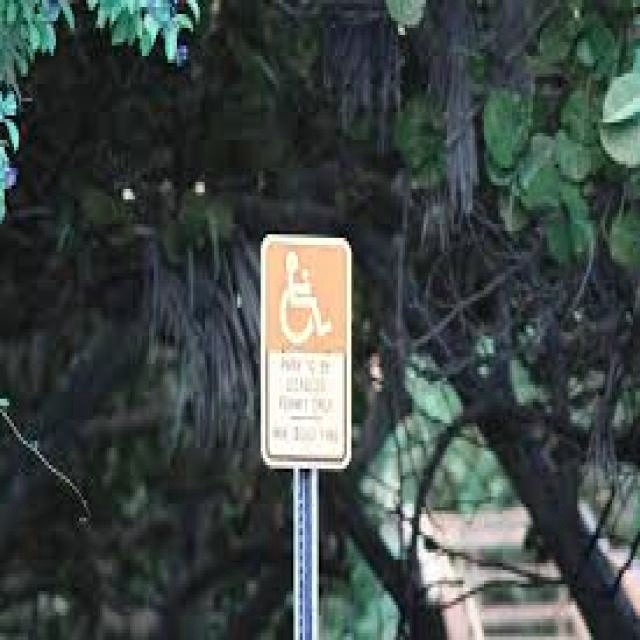ISA: (282, 252, 331, 346)
